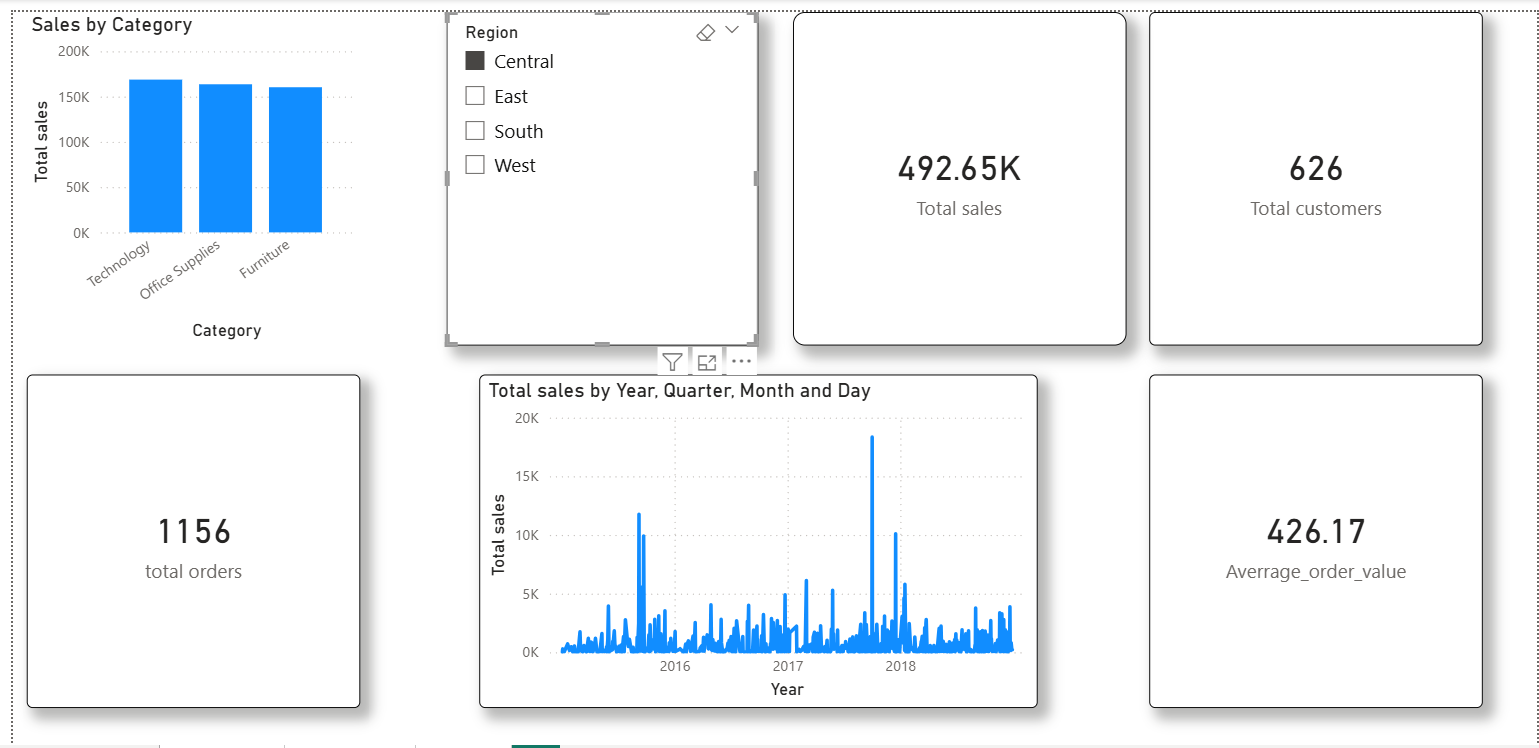

This screenshot's page, from the dashboard's own definition file:
{"tool":"powerbi","page":{"name":"Dashboard","canvas":[1280,720],"ordinal":0},"visuals":[{"type":"card","fields":{"Values":["Sales%20record.total orders"]},"box":[11.4,304.3,280,280],"z":0},{"type":"card","fields":{"Values":["Sales%20record.Total customers"]},"box":[954.3,0,280,280],"z":1000},{"type":"card","fields":{"Values":["Sales%20record.Total sales"]},"box":[654.3,0,280,280],"z":2000},{"type":"card","fields":{"Values":["Sales%20record.Averrage_order_value"]},"box":[954.3,304.3,280,280],"z":3000},{"type":"lineChart","fields":{"Y":["Sales%20record.Total sales"],"Category":["Sales%20record.Order Date.Variation.Date Hierarchy.Year","Sales%20record.Order Date.Variation.Date Hierarchy.Quarter","Sales%20record.Order Date.Variation.Date Hierarchy.Month","Sales%20record.Order Date.Variation.Date Hierarchy.Day"]},"box":[391.4,304.3,468.6,280],"z":4000},{"type":"slicer","fields":{"Values":["Sales%20record.Region"]},"box":[364.3,0,261.4,280],"z":5000},{"type":"clusteredColumnChart","title":"Sales by Category","fields":{"Category":["Sales%20record.Category"],"Y":["Sales%20record.Total sales"]},"box":[11,0,280,280],"z":6000}]}

Visuals, with their boxes on the page's 1280x720 design canvas (x1, y1, x2, y2). These are canvas units, not pixel positions in the 1539x748 screenshot, which may show the page scaled, cropped or inside an application window:
card - Sales%20record.total orders: [x1=11, y1=304, x2=291, y2=584]
card - Sales%20record.Total customers: [x1=954, y1=0, x2=1234, y2=280]
card - Sales%20record.Total sales: [x1=654, y1=0, x2=934, y2=280]
card - Sales%20record.Averrage_order_value: [x1=954, y1=304, x2=1234, y2=584]
lineChart - Sales%20record.Total sales x Sales%20record.Order Date.Variation.Date Hierarchy.Year: [x1=391, y1=304, x2=860, y2=584]
slicer - Sales%20record.Region: [x1=364, y1=0, x2=626, y2=280]
"Sales by Category" clusteredColumnChart: [x1=11, y1=0, x2=291, y2=280]
